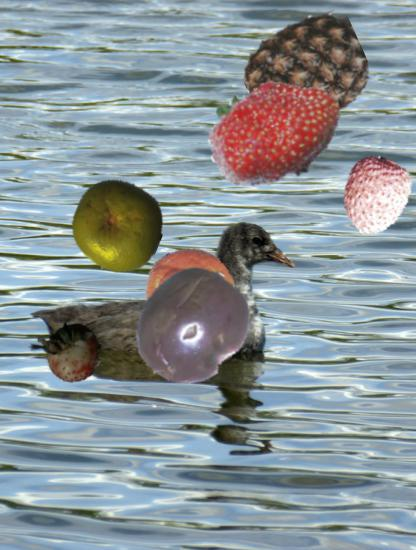Lychee: (336, 157, 415, 236)
Mandarine: (143, 248, 240, 345)
Passion: (130, 266, 253, 389)
Pineapple: (245, 11, 368, 134)
Pomelo: (71, 180, 163, 272)
Strawberry: (206, 62, 346, 202), (36, 317, 107, 388)
